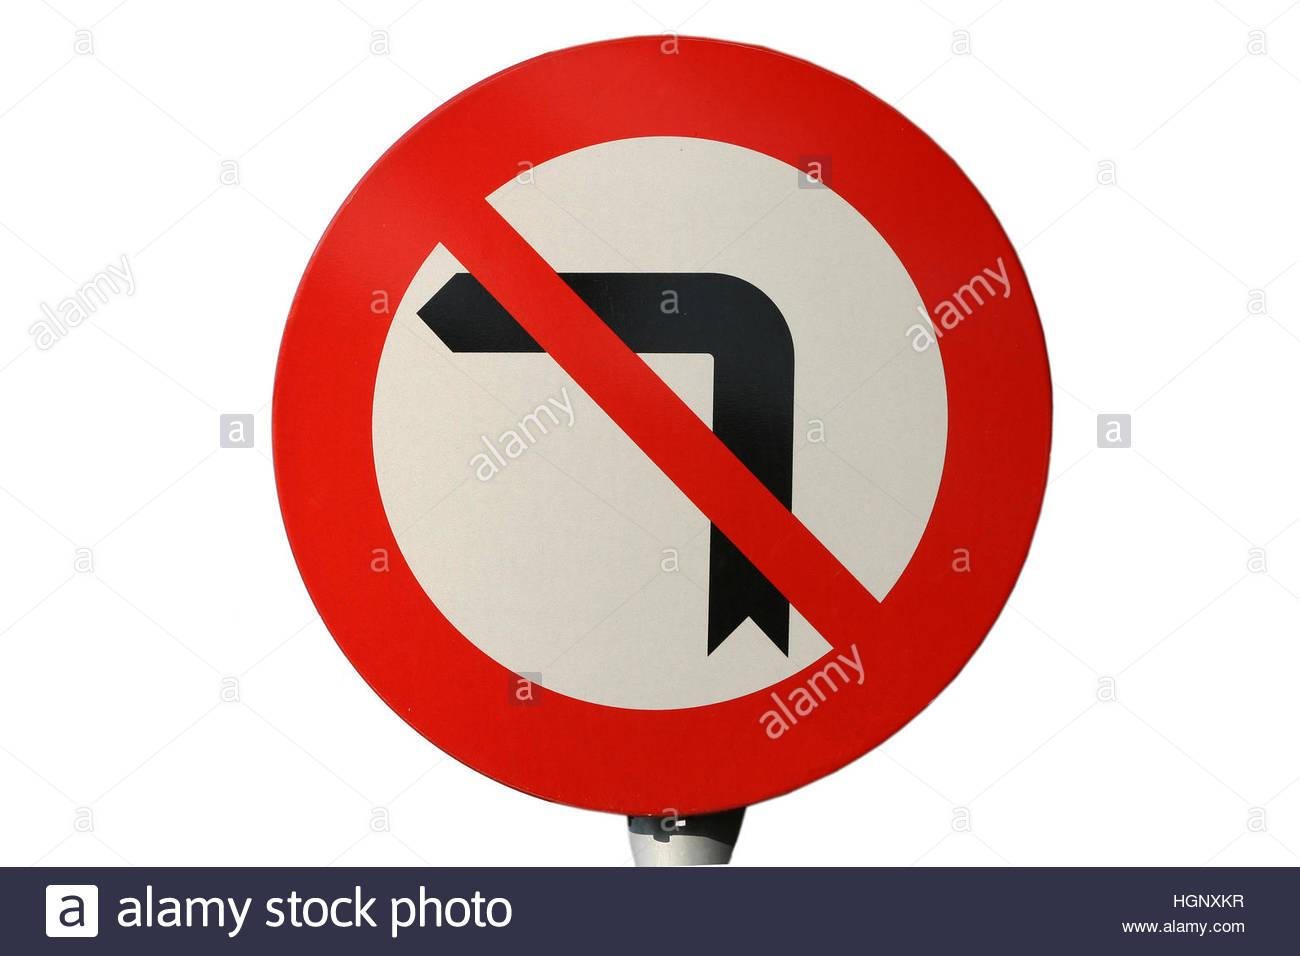no_left_turn: (265, 35, 1052, 815)
